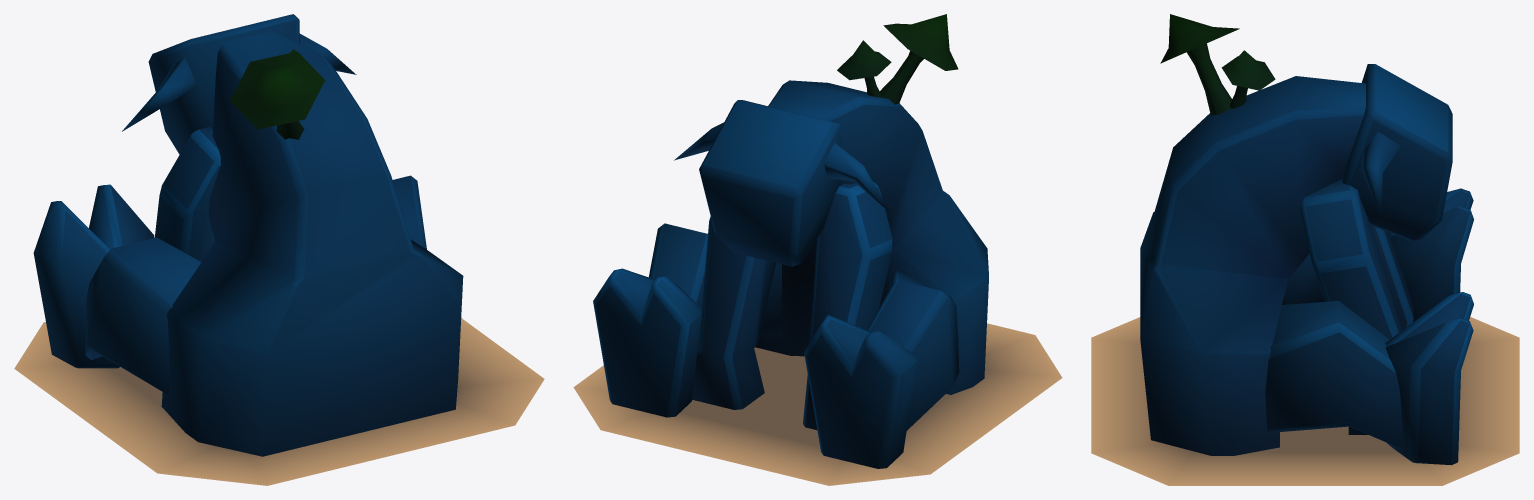
The model's file is Troll.fbx.
The picture shows the model from 3 angles, left to right: view 1: azimuth 30°, elevation 25°; view 2: azimuth 150°, elevation 25°; view 3: azimuth 270°, elevation 25°; orthographic projection. The views are drawn at different scales.
Parts seen in each view (by area): view 1: Troll; view 2: Troll; view 3: Troll.
Boxes of the visible parts, x1,y1,x2,y2 form: Troll: (14, 14, 544, 485); Troll: (573, 14, 1062, 485); Troll: (1091, 14, 1519, 485).
Size of the model in its own units: 2965 by 2754 by 2965.
